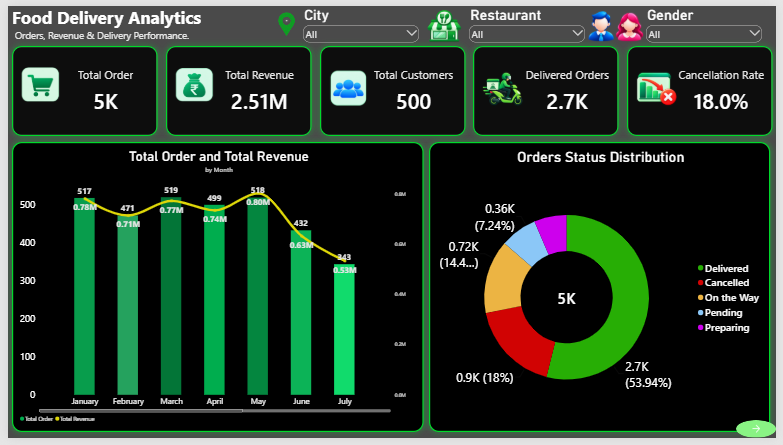

Layout of this report page (visuals, bound fields, positions):
{"tool":"powerbi","page":{"name":"Overview","canvas":[1920,1080],"ordinal":0},"visuals":[{"type":"textbox","box":[9,0,585.7,126.6],"z":0},{"type":"cardVisual","title":"Total Orders.","fields":{"Data":["food_delivery_analytics order_items.Total order"]},"box":[9,99,364,225.4],"z":1000},{"type":"cardVisual","title":"Total Revenue","fields":{"Data":["food_delivery_analytics payments.Total Successful Payment Revenue"]},"box":[395.2,99.4,364,225.4],"z":2000},{"type":"cardVisual","fields":{"Data":["food_delivery_analytics customers.Total Customers"]},"box":[779.1,99,364,225.4],"z":3000},{"type":"cardVisual","fields":{"Data":["food_delivery_analytics delivery_partners.Deliveried Orders"]},"box":[1163.1,99,364,225.4],"z":4000},{"type":"cardVisual","fields":{"Data":["food_delivery_analytics orders.Cancellation Rate"]},"box":[1547,99,364,225.4],"z":5000},{"type":"lineClusteredColumnComboChart","fields":{"Category":["food_delivery_analytics orders.order_date.Variation.Date Hierarchy.Month"],"Y":["food_delivery_analytics order_items.Total Order"],"Y2":["food_delivery_analytics order_items.Total Revenue"]},"box":[10.8,340,1029,725],"z":6000},{"type":"donutChart","title":"Orders Status Distribution","fields":{"Category":["food_delivery_analytics orders.order_status"],"Y":["CountNonNull(food_delivery_analytics orders.order_id)"]},"box":[1051.8,340,853,725],"z":7000},{"type":"slicer","fields":{"Values":["food_delivery_analytics customers.city"]},"box":[733,0,300.4,100.1],"z":8000},{"type":"image","box":[654.5,10.9,82.7,71.8],"z":9000},{"type":"slicer","fields":{"Values":["food_delivery_analytics restaurants.restaurant_name"]},"box":[1146.9,0,300.4,100],"z":10000},{"type":"image","box":[1029.2,6.5,121.9,82.7],"z":11000},{"type":"slicer","fields":{"Values":["food_delivery_analytics customers.gender"]},"box":[1589.1,0,300.4,100.1],"z":12000},{"type":"image","box":[1443.1,10.9,150.2,80.5],"z":13000},{"type":"actionButton","box":[1819.7,1035.8,100.3,44.3],"z":14000}]}

Visuals, with their boxes in screenshot pixels (x1, y1, x2, y2), scaled from the page's 1920x1080 canvas onto the 783x445 screenshot:
textbox: detection(4, 0, 243, 52)
"Total Orders." cardVisual: detection(4, 41, 152, 134)
"Total Revenue" cardVisual: detection(161, 41, 310, 134)
cardVisual - food_delivery_analytics customers.Total Customers: detection(318, 41, 466, 134)
cardVisual - food_delivery_analytics delivery_partners.Deliveried Orders: detection(474, 41, 623, 134)
cardVisual - food_delivery_analytics orders.Cancellation Rate: detection(631, 41, 779, 134)
lineClusteredColumnComboChart - food_delivery_analytics orders.order_date.Variation.Date Hierarchy.Month x food_delivery_analytics order_items.Total Order: detection(4, 140, 424, 439)
"Orders Status Distribution" donutChart: detection(429, 140, 777, 439)
slicer - food_delivery_analytics customers.city: detection(299, 0, 421, 41)
image: detection(267, 4, 301, 34)
slicer - food_delivery_analytics restaurants.restaurant_name: detection(468, 0, 590, 41)
image: detection(420, 3, 469, 37)
slicer - food_delivery_analytics customers.gender: detection(648, 0, 771, 41)
image: detection(589, 4, 650, 38)
actionButton: detection(742, 427, 782, 444)
